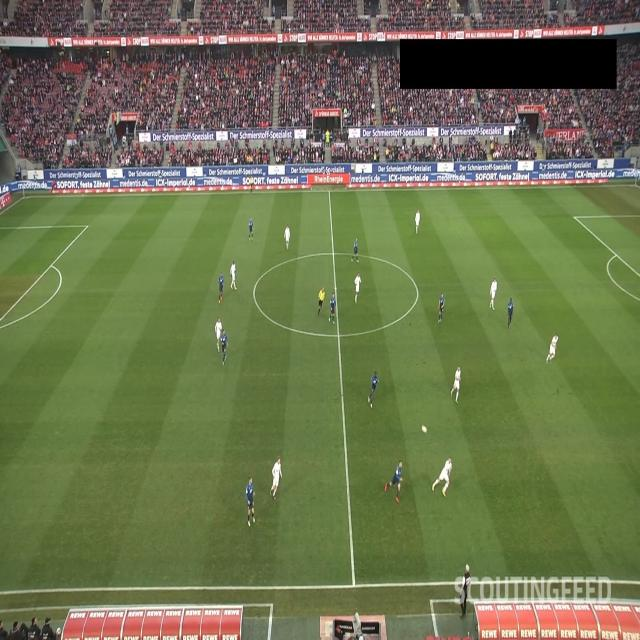ball: (421, 424, 428, 434)
